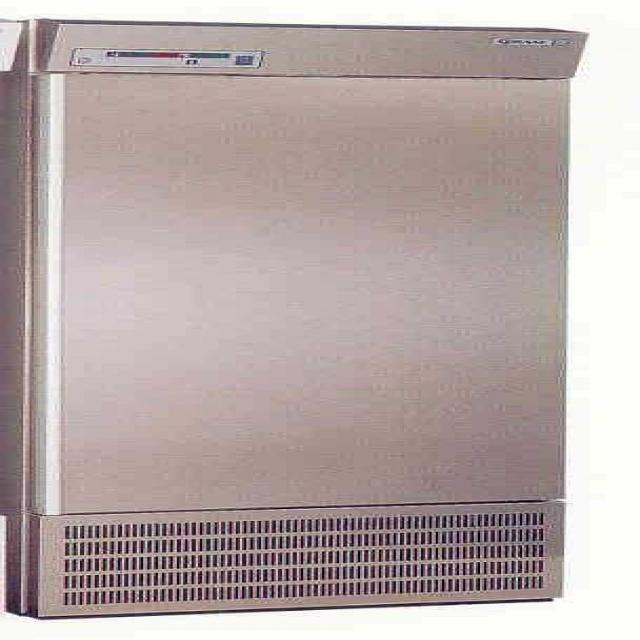refrigerator: (30, 20, 580, 591)
